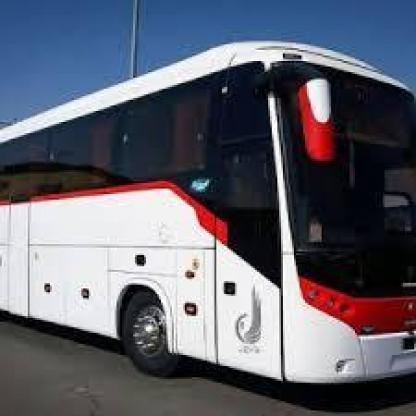Bus: (0, 24, 416, 396)
